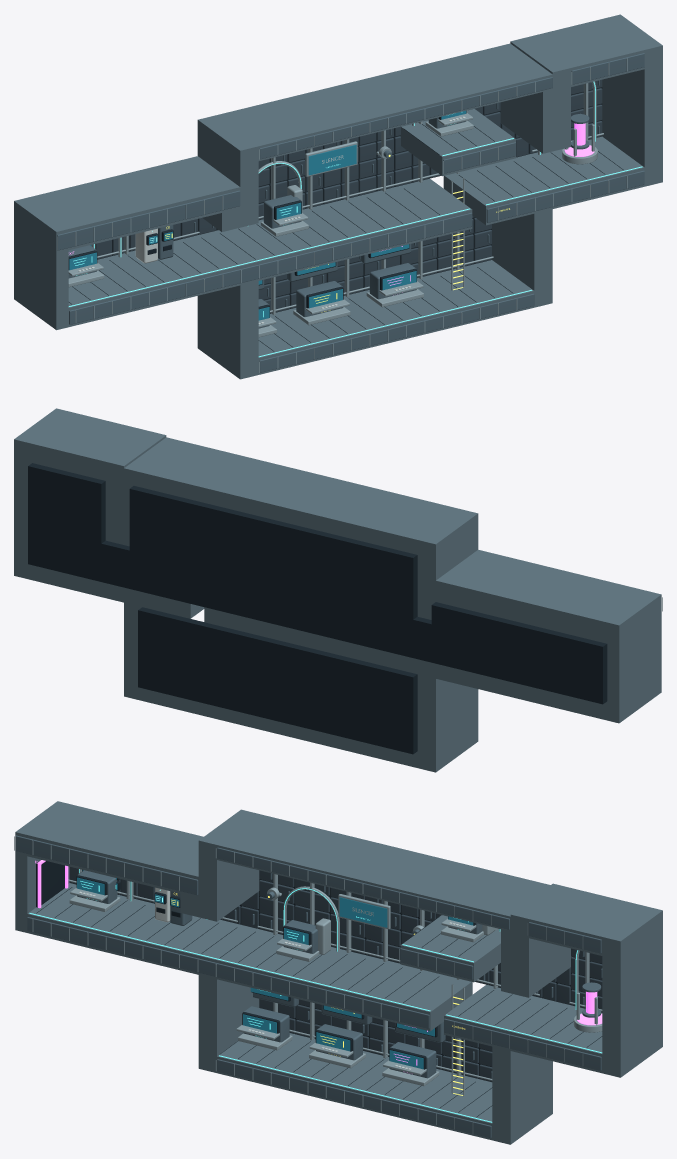
The model's file is interdimensional-base.glb.
The picture shows the model from 3 angles, top to bottom: view 1: azimuth 30°, elevation 25°; view 2: azimuth 150°, elevation 25°; view 3: azimuth 330°, elevation 25°; orthographic projection.
Visible parts, largest first — view 1: P07 / rectangle.001, P03 / rectangle.001, P01 / rectangle.001, P12 / rectangle.001, P06 / rectangle.001, P14 / rectangle.001, P07 / rectangle / front fascia.001, P10 / rectangle.001, P00 / rectangle.001, P11 / rectangle.001, P12 / rectangle / front fascia.001, P15 / rectangle.001 (+17 smaller); view 2: 02 / operations hall / backing.001, 03 / research deck / backing.001, P03 / rectangle.001, P01 / rectangle.001, 01 / arrival and support / backing.001, 04 / data return / backing.001, P07 / rectangle.001, P10 / rectangle.001, P15 / rectangle.001, P00 / rectangle.001, P12 / rectangle.001, P04 / rectangle.001 (+6 smaller); view 3: P07 / rectangle.001, P03 / rectangle.001, P12 / rectangle.001, P14 / rectangle.001, P01 / rectangle.001, P06 / rectangle.001, P07 / rectangle / front fascia.001, P11 / rectangle.001, P13 / rectangle.001, P10 / rectangle.001, P12 / rectangle / front fascia.001, P15 / rectangle.001 (+17 smaller).
Boxes of the visible parts, bbox=[...] form: P07 / rectangle.001: bbox=[68, 178, 472, 326]; P03 / rectangle.001: bbox=[216, 43, 552, 160]; P01 / rectangle.001: bbox=[14, 156, 240, 253]; P12 / rectangle.001: bbox=[258, 260, 534, 374]; P06 / rectangle.001: bbox=[443, 136, 644, 225]; P14 / rectangle.001: bbox=[602, 14, 662, 186]; P07 / rectangle / front fascia.001: bbox=[69, 212, 472, 324]; P10 / rectangle.001: bbox=[197, 281, 258, 379]; P00 / rectangle.001: bbox=[14, 222, 68, 330]; P11 / rectangle.001: bbox=[492, 209, 552, 307]; P12 / rectangle / front fascia.001: bbox=[259, 293, 534, 372]; P15 / rectangle.001: bbox=[529, 19, 644, 86]; 02 / operations hall / backing.001: bbox=[129, 486, 417, 657]; 03 / research deck / backing.001: bbox=[138, 607, 417, 754]; P03 / rectangle.001: bbox=[124, 437, 459, 554]; P01 / rectangle.001: bbox=[436, 549, 661, 646]; 01 / arrival and support / backing.001: bbox=[431, 602, 607, 704]; 04 / data return / backing.001: bbox=[28, 463, 105, 581]; P07 / rectangle.001: bbox=[204, 607, 607, 720]; P10 / rectangle.001: bbox=[417, 674, 478, 772]; P15 / rectangle.001: bbox=[32, 413, 147, 480]; P00 / rectangle.001: bbox=[607, 616, 661, 723]; P12 / rectangle.001: bbox=[142, 688, 417, 767]; P04 / rectangle.001: bbox=[417, 509, 478, 601]; P07 / rectangle.001: bbox=[27, 883, 472, 1031]; P03 / rectangle.001: bbox=[217, 814, 550, 931]; P12 / rectangle.001: bbox=[217, 1033, 492, 1140]; P14 / rectangle.001: bbox=[602, 906, 662, 1077]; P01 / rectangle.001: bbox=[15, 801, 203, 897]; P06 / rectangle.001: bbox=[444, 984, 602, 1073]; P07 / rectangle / front fascia.001: bbox=[27, 917, 429, 1028]; P11 / rectangle.001: bbox=[492, 1046, 552, 1144]; P13 / rectangle.001: bbox=[510, 883, 571, 997]; P10 / rectangle.001: bbox=[198, 975, 259, 1072]; P12 / rectangle / front fascia.001: bbox=[217, 1059, 491, 1138]; P15 / rectangle.001: bbox=[529, 888, 643, 955].
Size of the model in its own units: 33.02 by 12 by 4.51.
